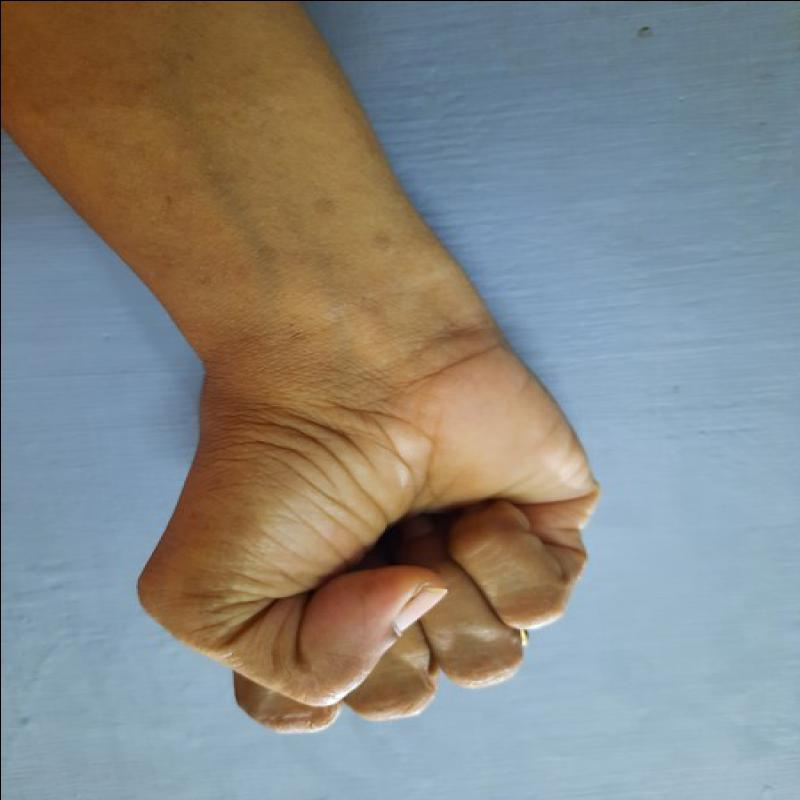Mushti: (125, 300, 605, 758)
